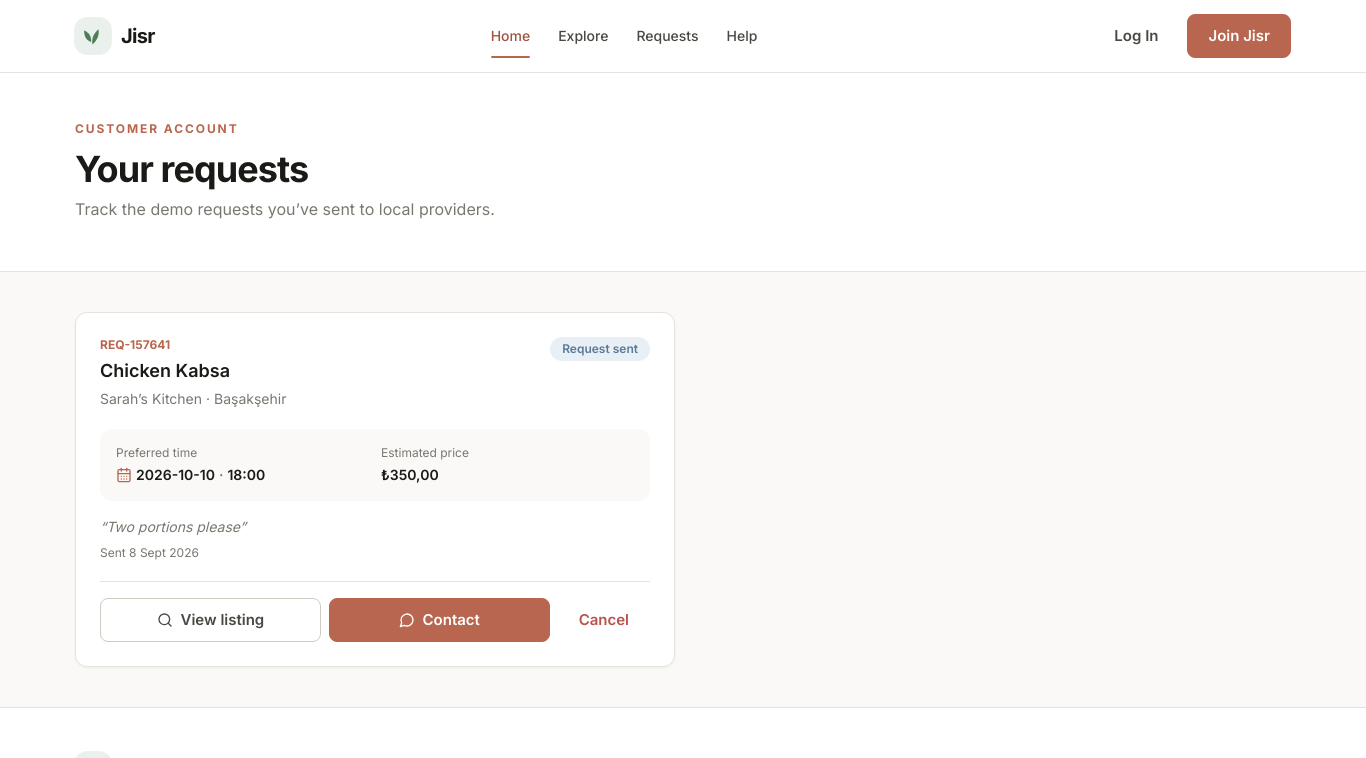
Scenario: customer experience › shows persisted requests and supports cancellation
Expected: the heading "Chicken Kabsa" is shown, [100, 360, 230, 381]
Click the button "Cancel" at (604, 620), box [558, 598, 650, 642]
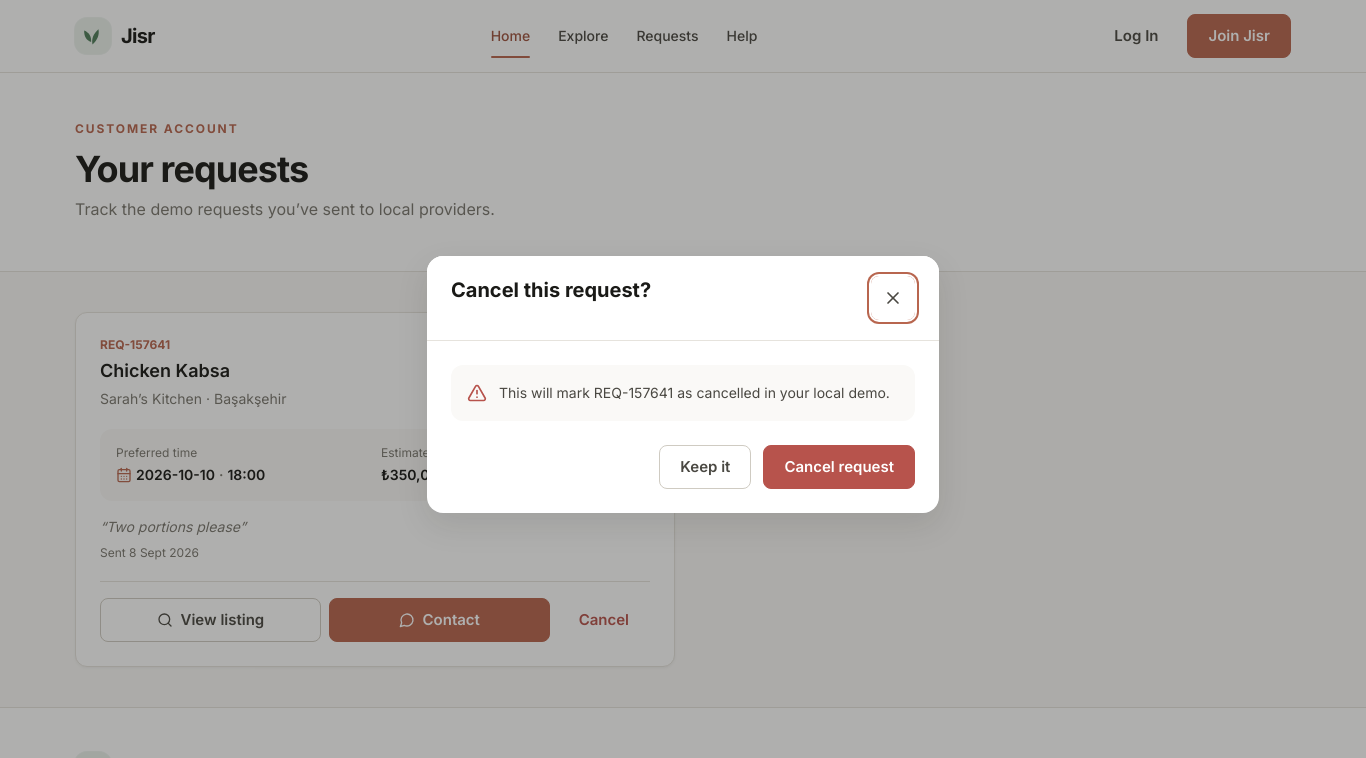
Expected: the heading "Cancel this request?" is shown, [451, 276, 651, 304]
Click the button "Cancel request" at (839, 466), box [763, 444, 915, 488]
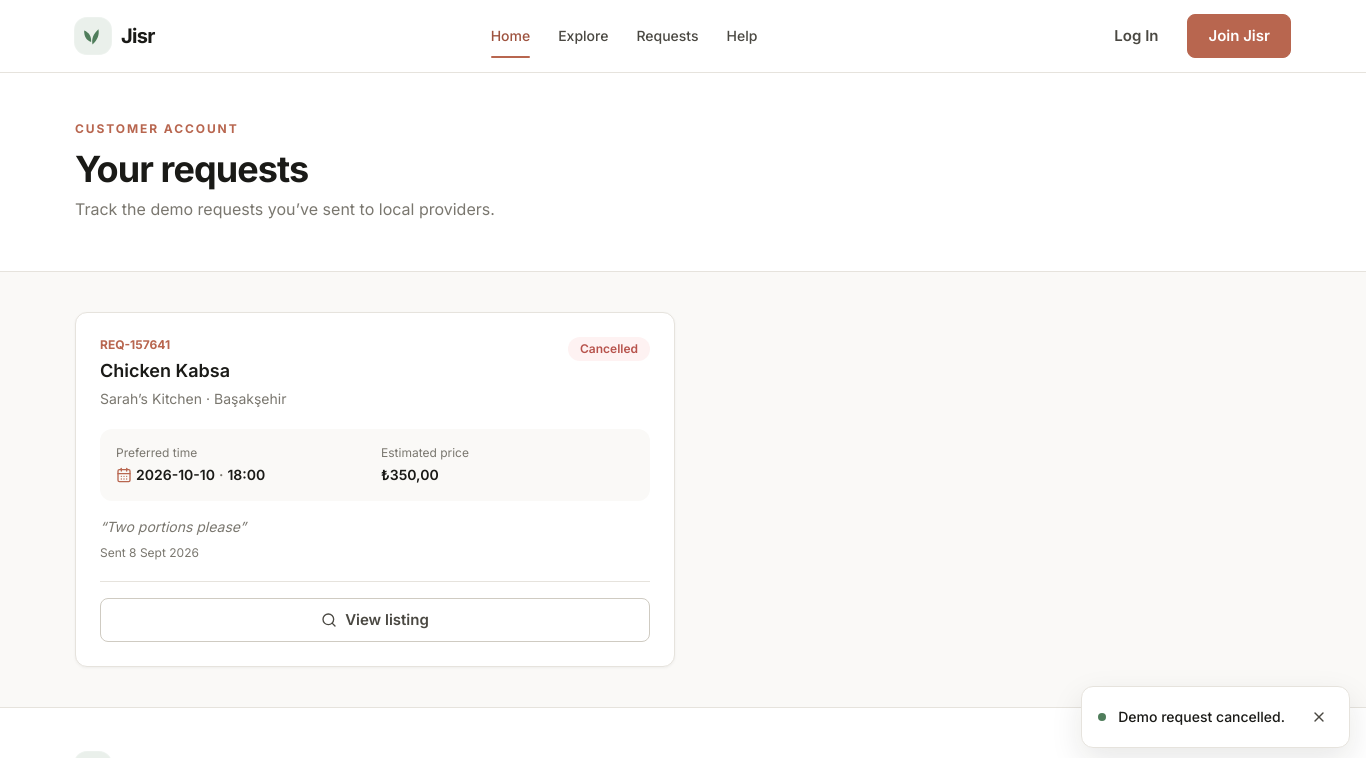
Expected: the text "Cancelled" is shown, [568, 337, 650, 361]
